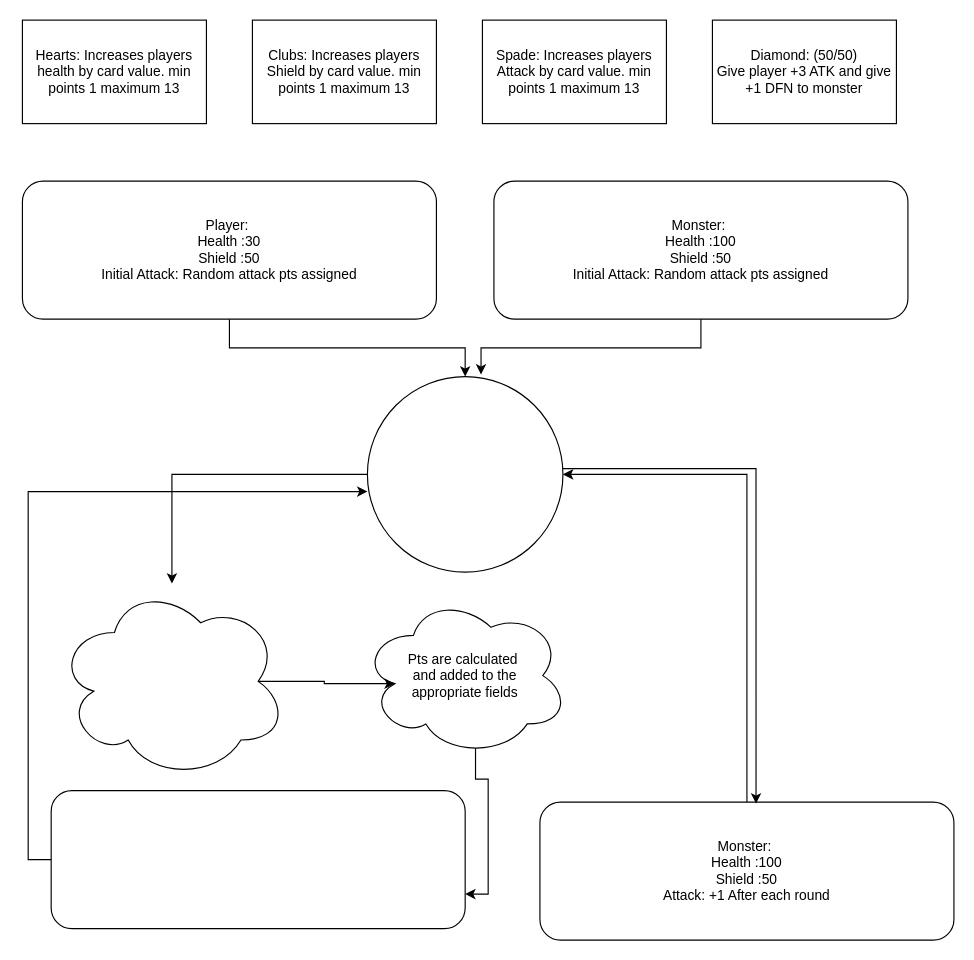
The diagram is 974 pixels wide and 960 high, and some of its shapes have lost their labels. The shapes that lost their labels are listed below. From the top down, each one's centre as x and y in pixels, then its label:
At pixel 464 473: "Fight: Attack pts deducts shield of Each. If shield 0, deducts health".
At pixel 171 680: "Player draws cards to form a hand of 3. Picks 1 card to apply before fighting".
At pixel 257 859: "Player: Health :new pts Shield :new pts Attack: new pts".
